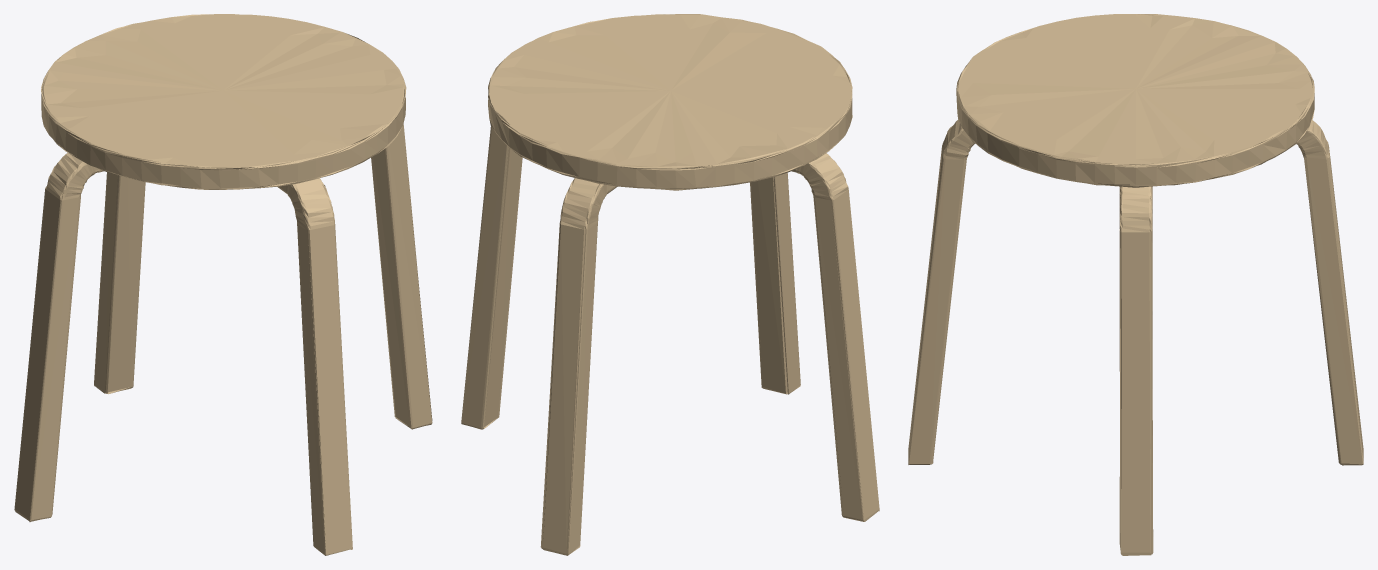
Rendered from gen-stool-bent-birch-3leg-1.glb.
The picture shows the model from 3 angles, left to right: view 1: azimuth 30°, elevation 25°; view 2: azimuth 150°, elevation 25°; view 3: azimuth 270°, elevation 25°; orthographic projection.
Parts seen in each view (by area): view 1: gen-stool-bent-birch-3leg-1_part1; view 2: gen-stool-bent-birch-3leg-1_part1; view 3: gen-stool-bent-birch-3leg-1_part1.
Boxes of the visible parts, x1,y1,x2,y2 form: gen-stool-bent-birch-3leg-1_part1: [14, 14, 432, 555]; gen-stool-bent-birch-3leg-1_part1: [461, 14, 879, 555]; gen-stool-bent-birch-3leg-1_part1: [908, 14, 1363, 555].
Bounding box in the file's own units: 489 × 440 × 489.
